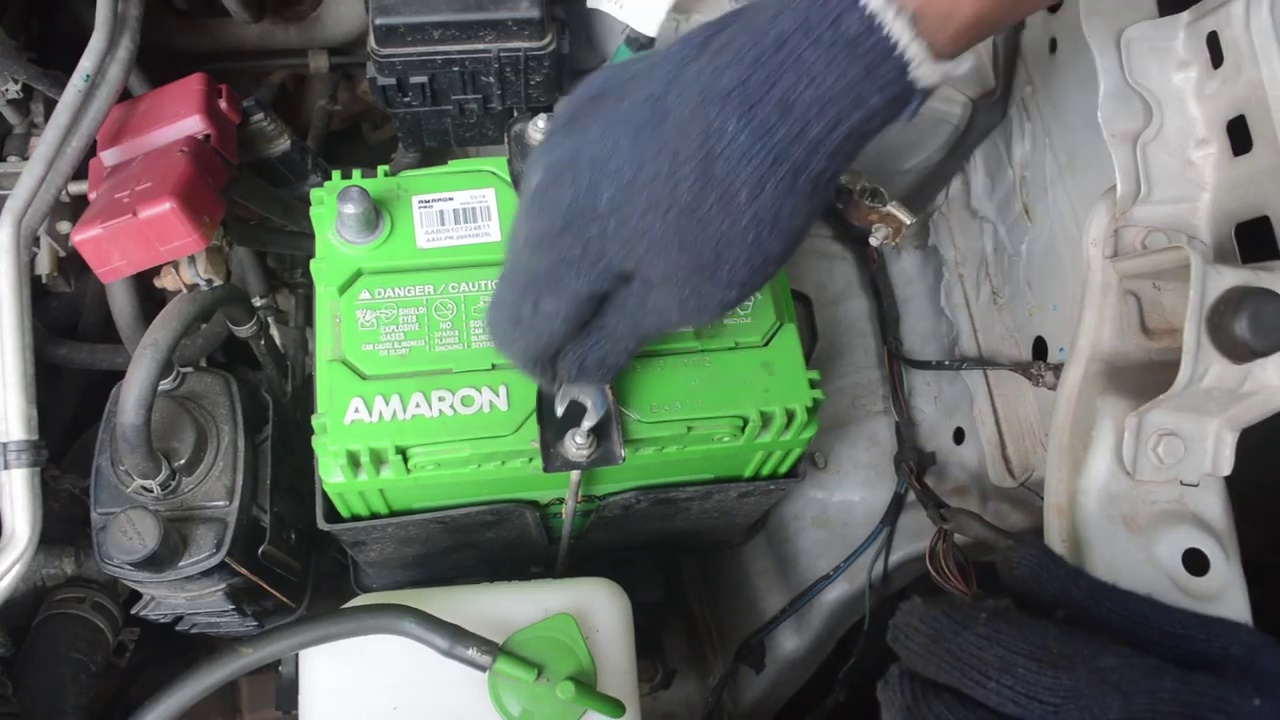battery: (304, 165, 818, 444)
pos_disconnected: (48, 91, 430, 286)
